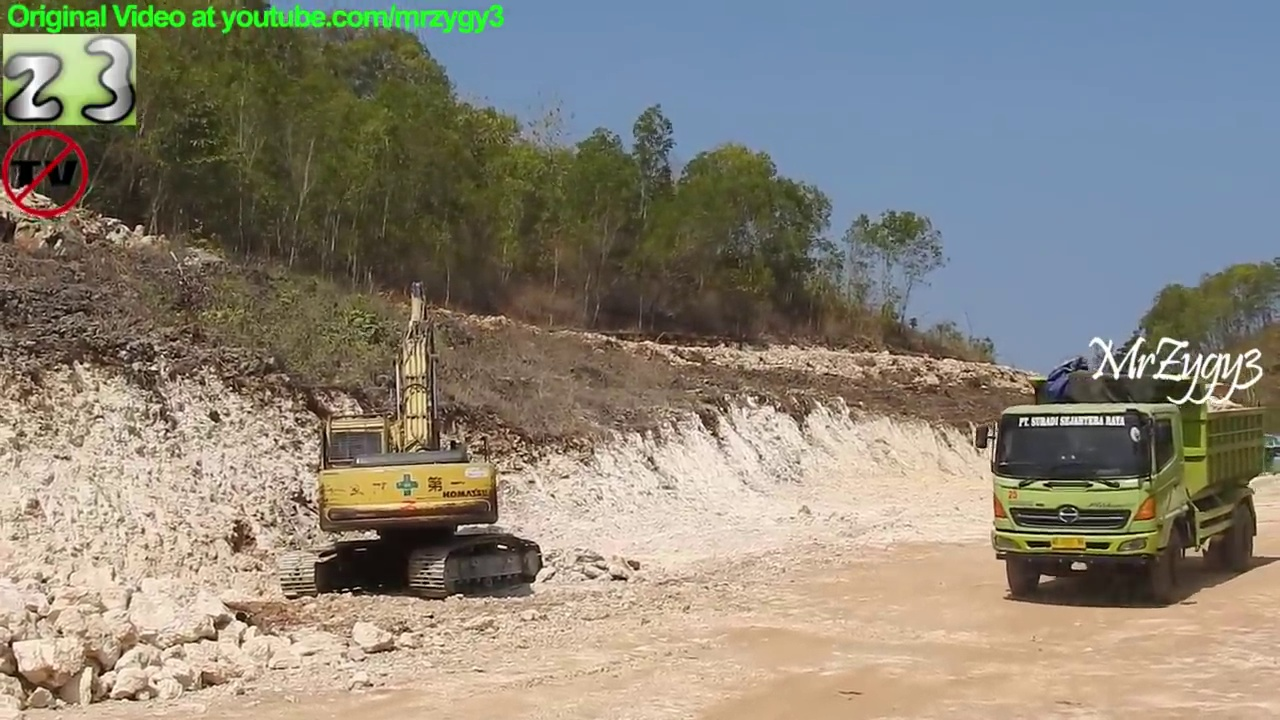excavator: (1186, 409, 1280, 494)
excavator breaker: (271, 276, 547, 603)
truck: (971, 371, 1271, 607)
